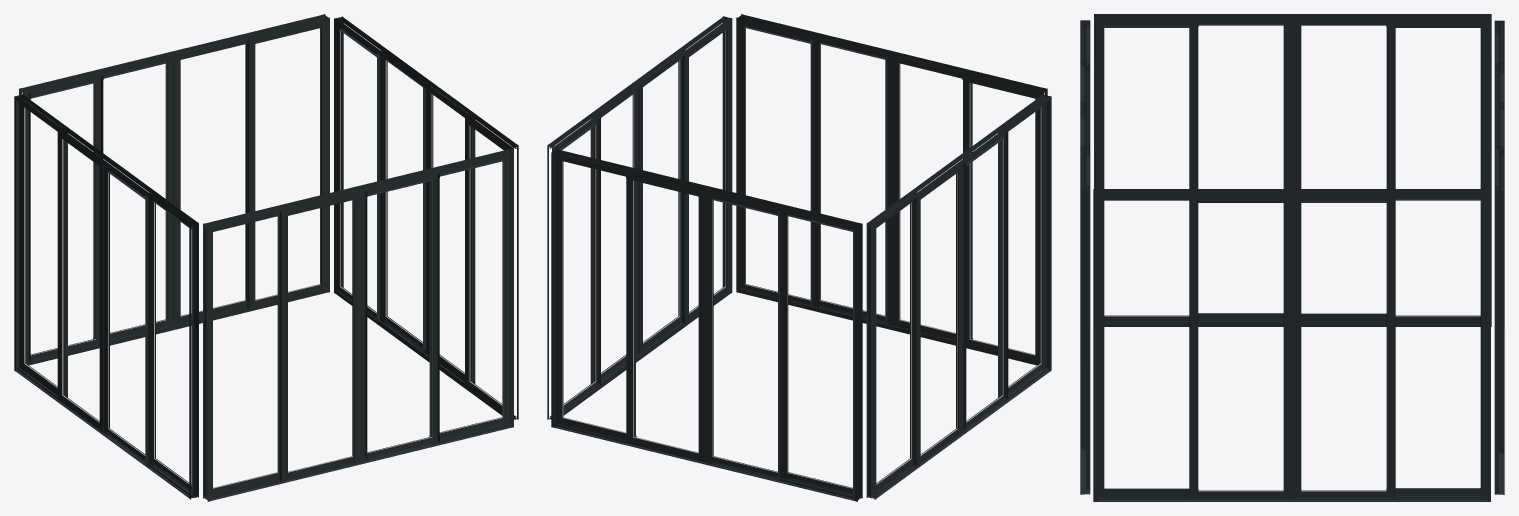
3 views of the same model, side by side, from view 1: azimuth 30°, elevation 25°; view 2: azimuth 150°, elevation 25°; view 3: azimuth 270°, elevation 25° (orthographic). The views are drawn at different scales.
Visible parts, largest first — view 1: priximbattable_net_pergolanda_354468_pergolanda_toit_plat_av, folha2_3, folha1, folha3_3, folha2_4, folha2, folha3_4, folha4, folha1_4, folha1_3, folha4_2, folha4_3 (+5 smaller); view 2: priximbattable_net_pergolanda_354468_pergolanda_toit_plat_av, folha2, folha3, folha4_3, folha2_4, folha2_3, folha1_2, folha3_4, folha1_3, folha1, folha1_4, folha2_2 (+5 smaller); view 3: priximbattable_net_pergolanda_354468_pergolanda_toit_plat_av, folha2_2, folha3_2, folha1_4, folha4_4, folha1_2, folha4_2, folha2_4, folha3_4, folha2, folha1, folha4_3 (+2 smaller).
Part boxes in pixels (x1=…): priximbattable_net_pergolanda_354468_pergolanda_toit_plat_av: x1=14, y1=14, x2=518, y2=501; folha2_3: x1=279, y1=192, x2=361, y2=481; folha1: x1=247, y1=21, x2=327, y2=308; folha3_3: x1=362, y1=173, x2=439, y2=460; folha2_4: x1=57, y1=129, x2=106, y2=432; folha2: x1=171, y1=37, x2=247, y2=325; folha3_4: x1=103, y1=164, x2=152, y2=464; folha4: x1=22, y1=76, x2=103, y2=361; folha1_4: x1=19, y1=97, x2=67, y2=397; folha1_3: x1=204, y1=209, x2=279, y2=497; folha4_2: x1=338, y1=24, x2=383, y2=322; folha4_3: x1=429, y1=157, x2=507, y2=440; priximbattable_net_pergolanda_354468_pergolanda_toit_plat_av: x1=547, y1=14, x2=1051, y2=501; folha2: x1=626, y1=173, x2=708, y2=462; folha3: x1=705, y1=193, x2=786, y2=479; folha4_3: x1=740, y1=21, x2=818, y2=307; folha2_4: x1=913, y1=164, x2=962, y2=466; folha2_3: x1=890, y1=54, x2=972, y2=340; folha1_2: x1=682, y1=22, x2=730, y2=323; folha3_4: x1=963, y1=129, x2=1008, y2=429; folha1_3: x1=962, y1=75, x2=1043, y2=362; folha1: x1=556, y1=154, x2=636, y2=440; folha1_4: x1=868, y1=192, x2=916, y2=496; folha2_2: x1=636, y1=50, x2=684, y2=354; priximbattable_net_pergolanda_354468_pergolanda_toit_plat_av: x1=1080, y1=14, x2=1504, y2=501; folha2_2: x1=1189, y1=197, x2=1294, y2=499; folha3_2: x1=1295, y1=197, x2=1395, y2=498; folha1_4: x1=1386, y1=22, x2=1487, y2=323; folha4_4: x1=1097, y1=22, x2=1198, y2=323; folha1_2: x1=1097, y1=197, x2=1198, y2=496; folha4_2: x1=1386, y1=197, x2=1487, y2=496; folha2_4: x1=1290, y1=22, x2=1386, y2=321; folha3_4: x1=1198, y1=22, x2=1289, y2=321; folha2: x1=1499, y1=106, x2=1503, y2=453; folha1: x1=1495, y1=146, x2=1499, y2=492; folha4_3: x1=1085, y1=146, x2=1089, y2=489.
Size of the model in its own units: 299 by 240 by 299.
1 material, 1 textured.
